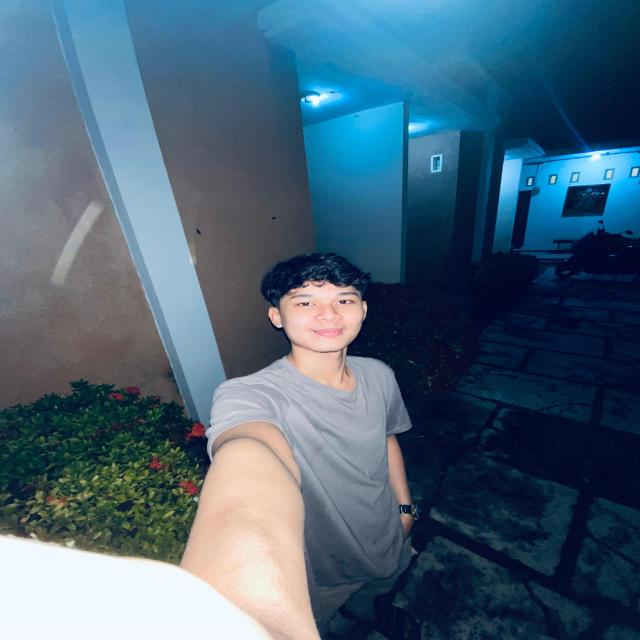nohelmet: (255, 247, 379, 365)
